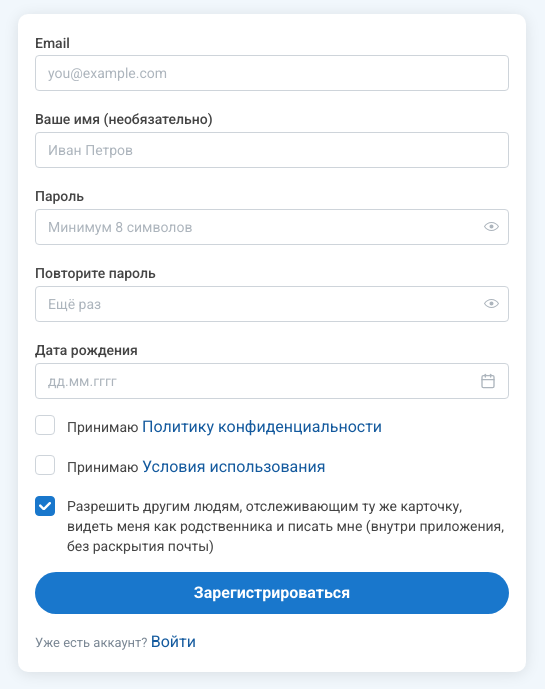
Test: RegisterPage › shows validation error and blocks submit when empty
This screenshot has width=545, height=689.
(page scrolled)
Step 1. Click the button "Зарегистрироваться" → (272, 593), box 35,572 -> 509,614
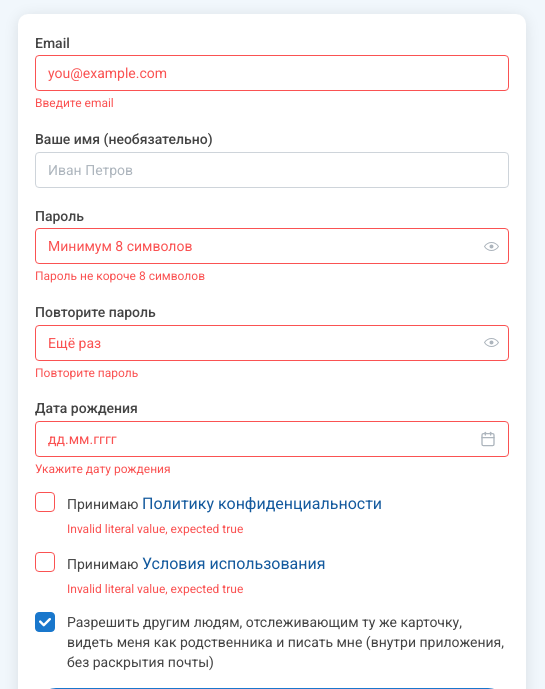
Now the text "Введите email" is shown, box 35,96 -> 114,110
